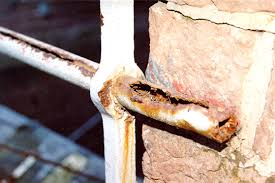rust: (99, 73, 239, 142), (120, 115, 137, 181), (45, 52, 82, 69), (16, 39, 50, 56), (96, 7, 111, 31)
